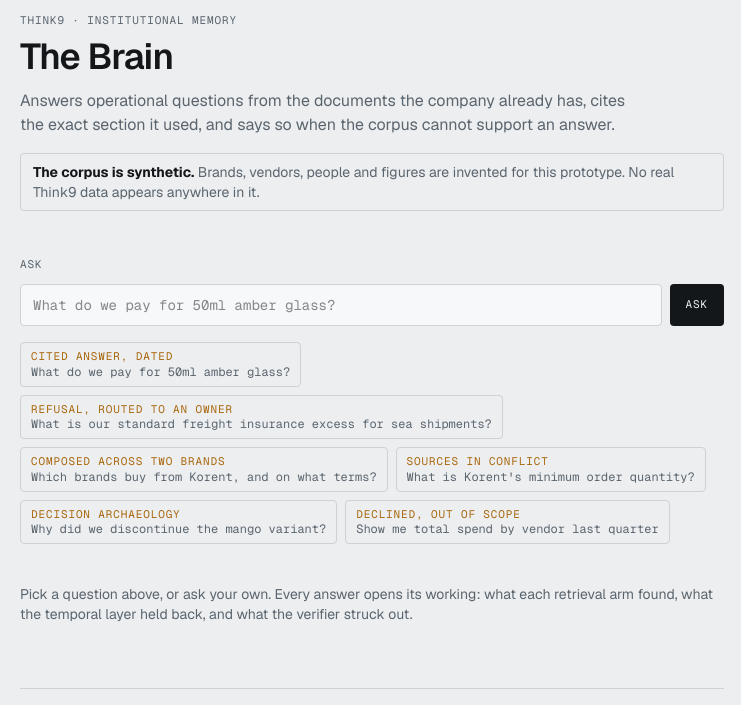
Test: Home › cancelling does not show the visitor an error
Click the text "What do we pay for 50ml amber glass?" at (161, 372), box [31,364,290,380]
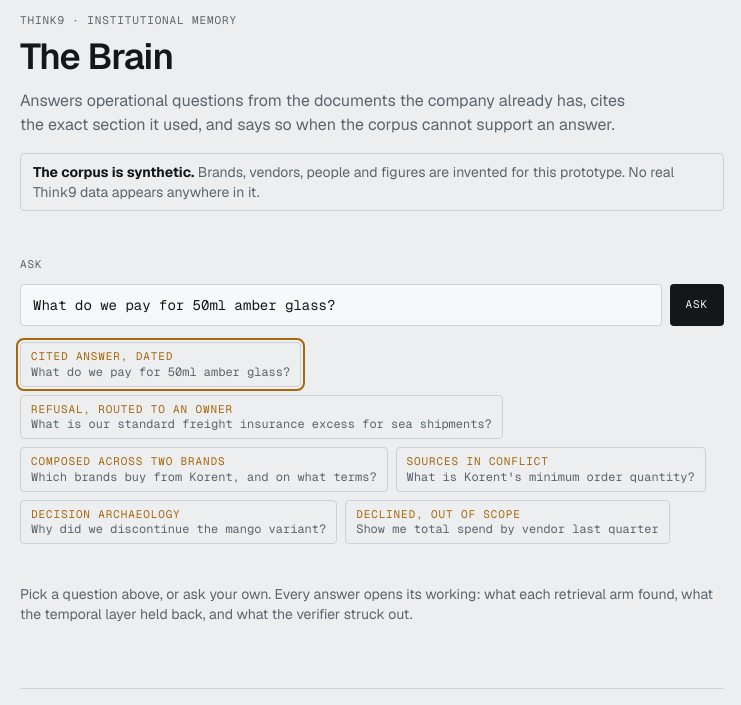
Click the text "Why did we discontinue the mango variant?" at (179, 530), box [31,522,326,538]
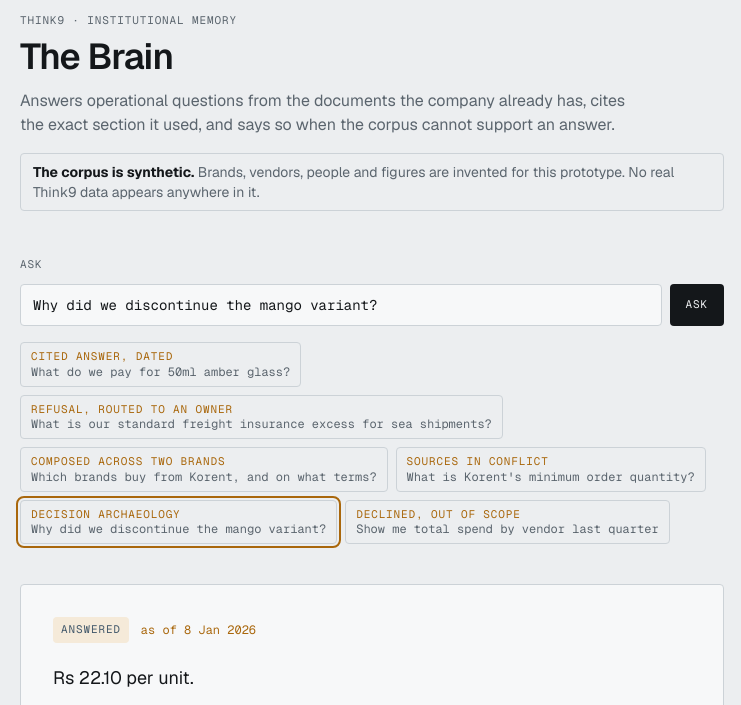
Result: the text "Rs 22.10 per unit." is shown at [53,666,194,688]
